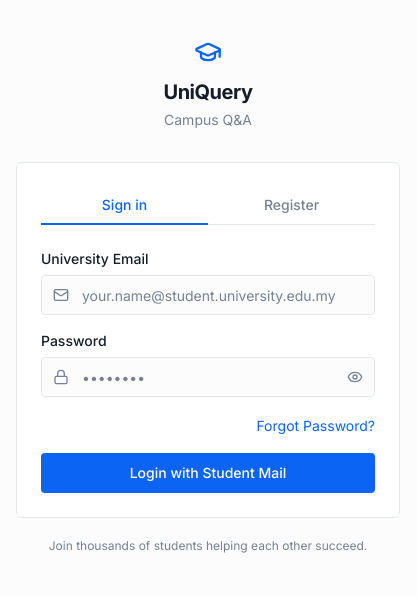
Scenario: Smoke Test — AuthPage Component › shows email validation error for non-edu addresses
Type "user@gmail.com" into the field with placeholder "your.name@student.university.edu.my".
click(208, 295); type("user@gmail.com")  # box [41,275,375,315]
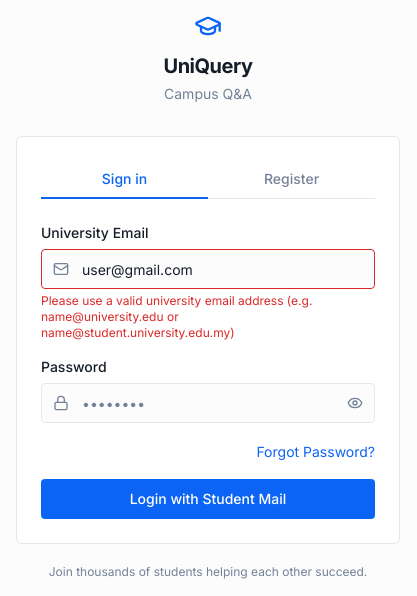
Check: the text "Please use a valid university email address" is shown, box [41,293,312,340]
